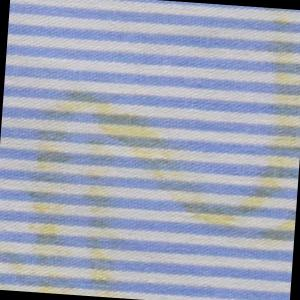Stain: (22, 1, 300, 300)
